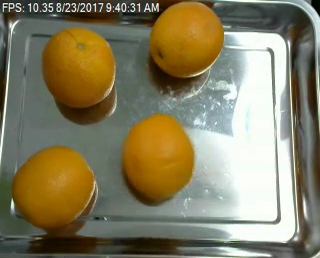Orange: (10, 146, 95, 227), (123, 114, 195, 199), (40, 26, 116, 106), (148, 2, 223, 76)
